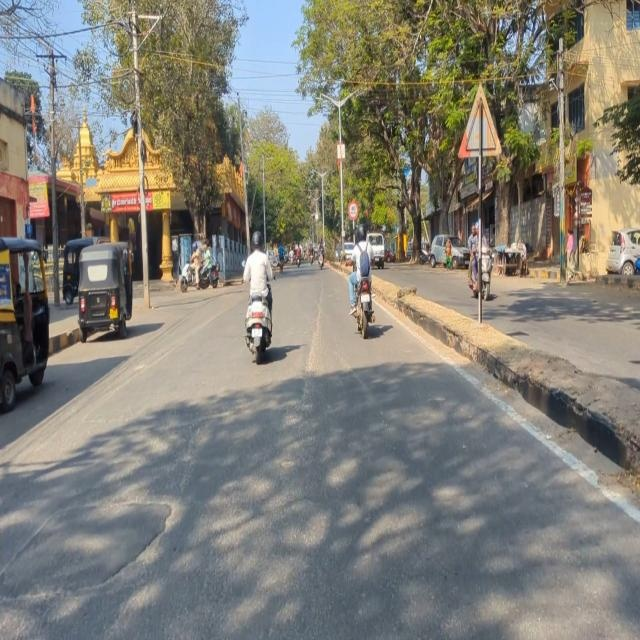bien_cam: (348, 201, 358, 220)
